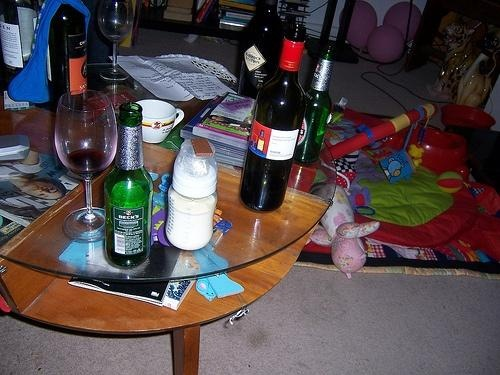bottle: (236, 17, 314, 216), (104, 100, 156, 270), (42, 2, 92, 117), (295, 43, 337, 167), (1, 1, 47, 95)
